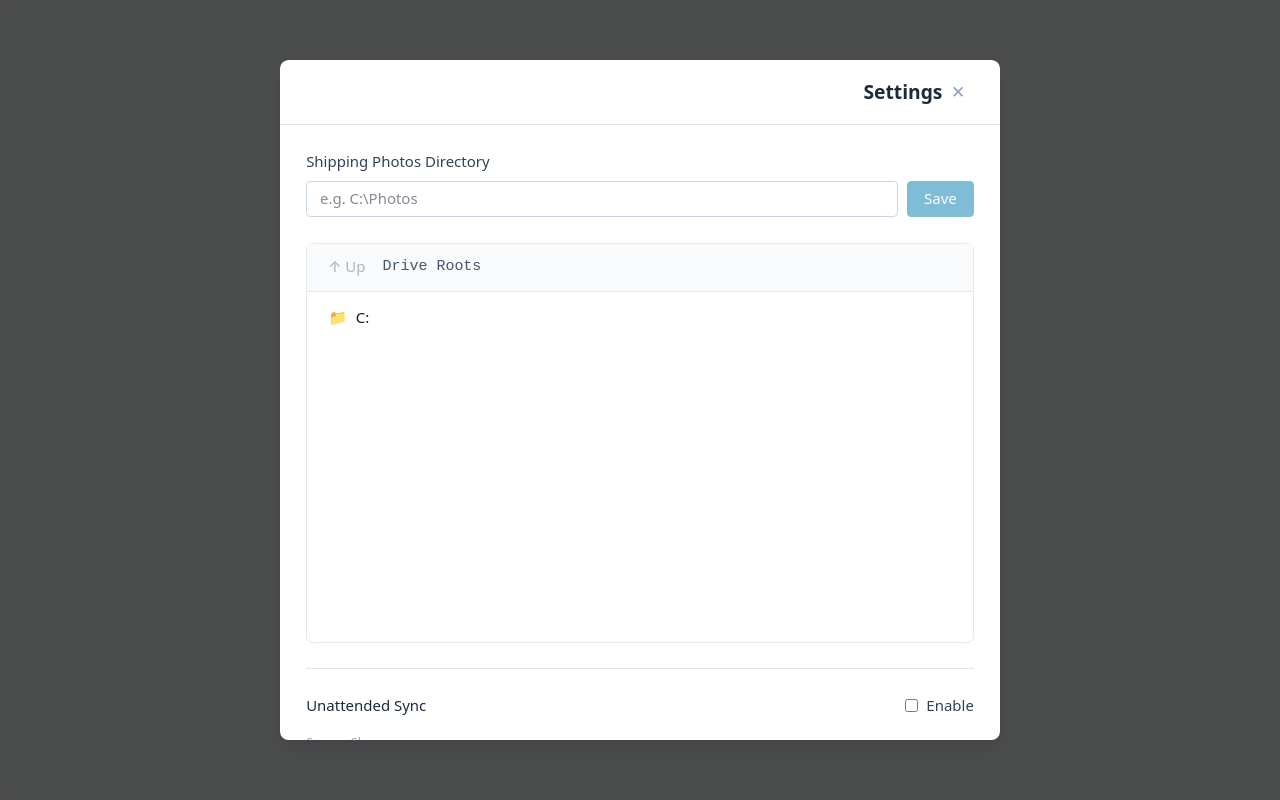
Test: SettingsModal.vue › navigation click issues browse and updates breadcrumb
Click the button "📁 C:" at [338, 317], box [316,300,964,334]
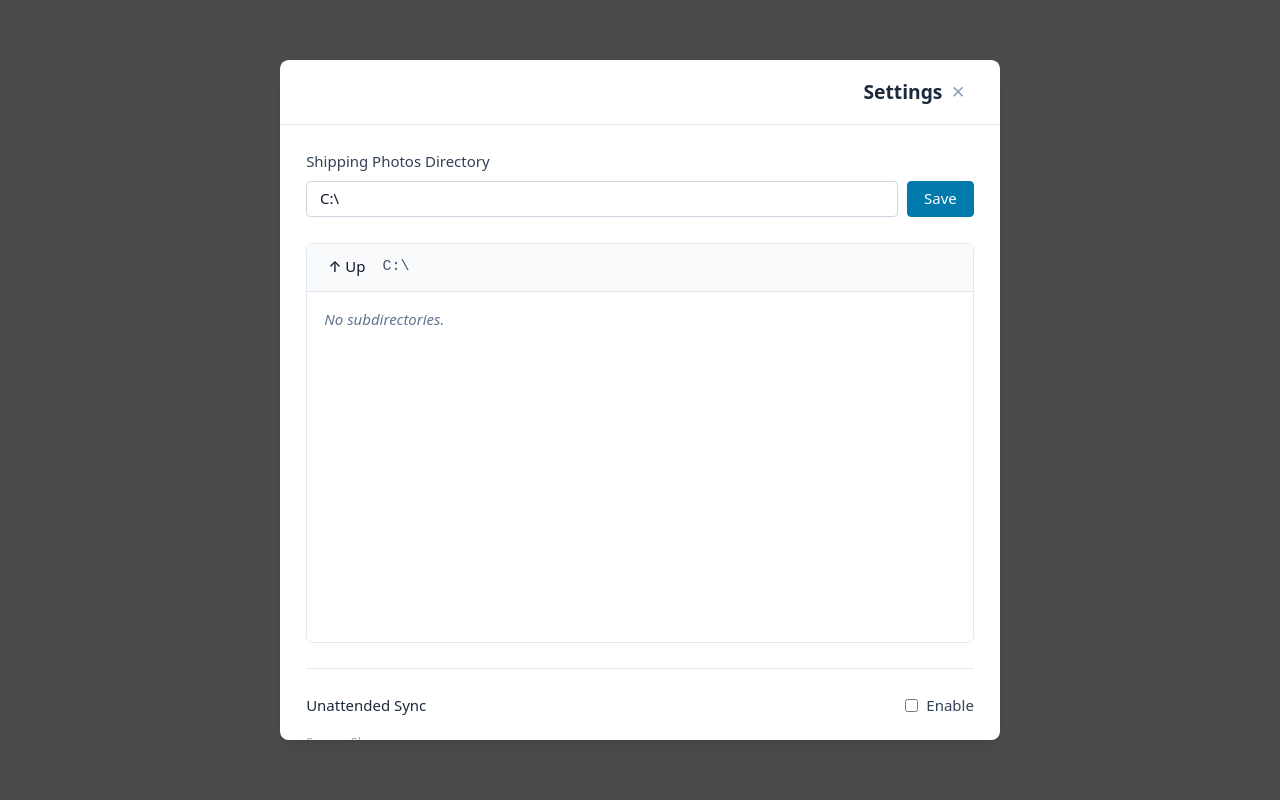
Check: the field holds "C:\\", box [306,181,898,217]
